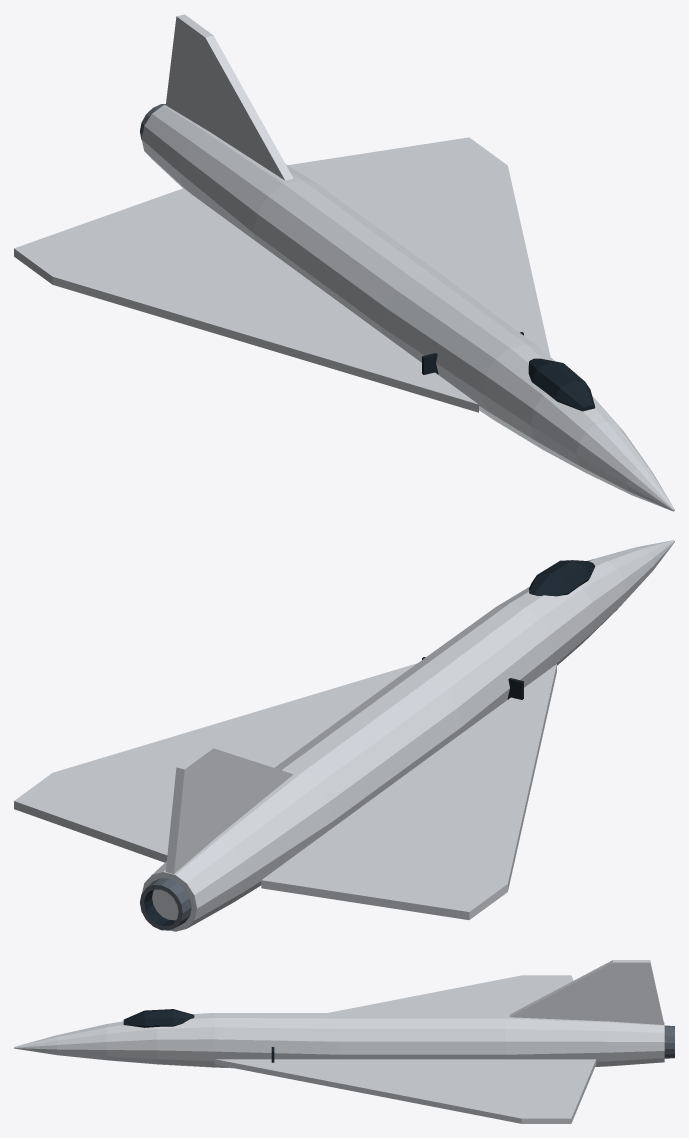
The picture shows the model from 3 angles, top to bottom: view 1: azimuth 30°, elevation 25°; view 2: azimuth 150°, elevation 25°; view 3: azimuth 270°, elevation 25°; orthographic projection. The views are drawn at different scales.
Parts seen in each view (by area): view 1: fd2 body; view 2: fd2 body; view 3: fd2 body.
Boxes of the visible parts, left/top/right/bottom form: fd2 body: left=14, top=14, right=674, bottom=511; fd2 body: left=14, top=540, right=674, bottom=931; fd2 body: left=14, top=960, right=674, bottom=1123.
Size of the model in its own units: 8.18 by 2.85 by 15.95.
